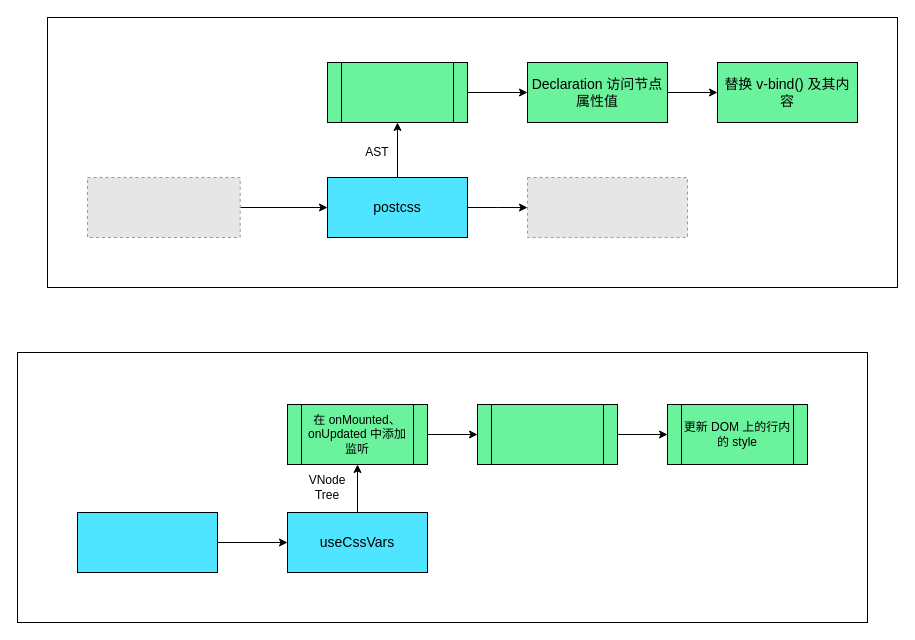
Image size: 915x640. Some labels were removed from this diagram. Grey dashed boxes stand in for pictures. The centre of each missing label's shape, as x and y in pixels:
"cssVarsPlugin" goes at point (397, 92).
"script 中和 style 相关的变量" goes at point (147, 542).
"在监听中递归处理 DOM" goes at point (547, 434).
